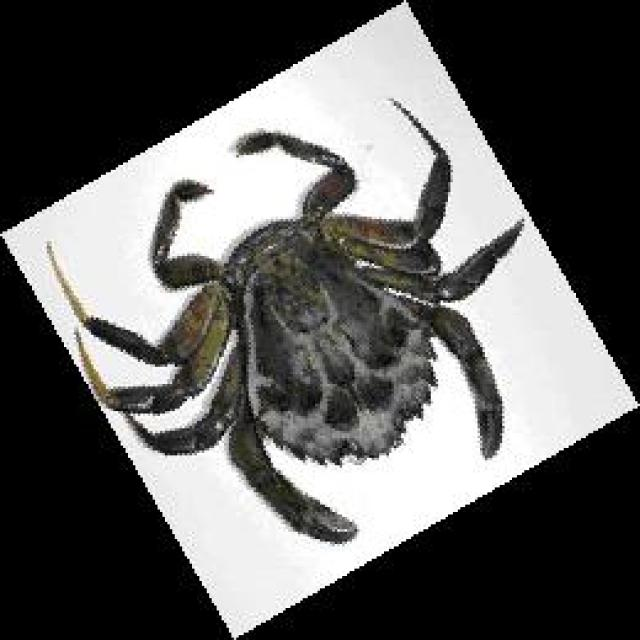European Green crab: (49, 101, 522, 539)
